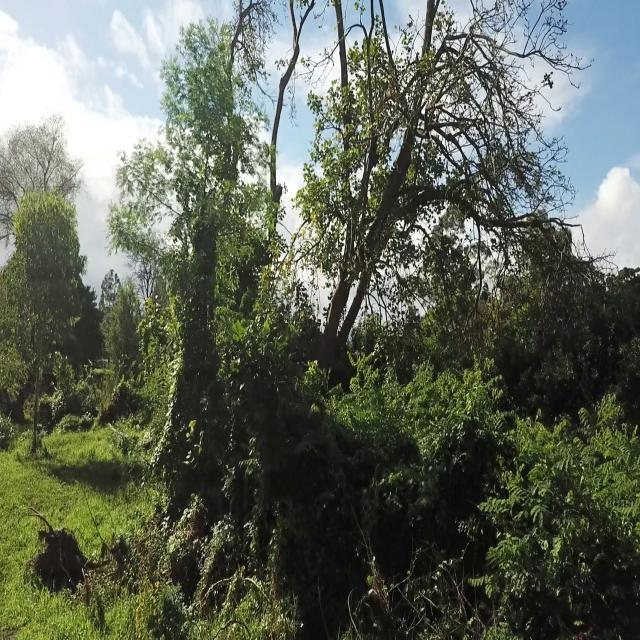Mysore-Thorn-Weed: (478, 472, 570, 640), (565, 387, 620, 510), (448, 353, 508, 437), (608, 425, 638, 527), (405, 360, 445, 436), (346, 348, 387, 421), (508, 409, 549, 474)
